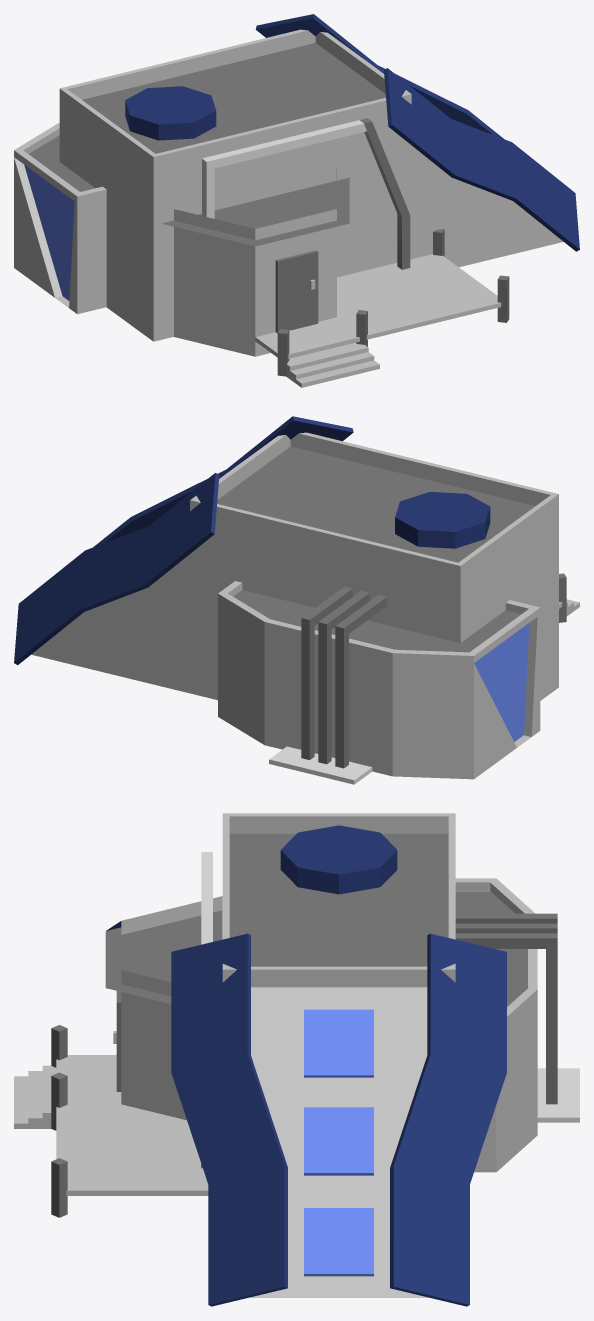
File: house.fbx
3 views of the same model, one above another, from view 1: azimuth 30°, elevation 25°; view 2: azimuth 150°, elevation 25°; view 3: azimuth 270°, elevation 25° (orthographic). The views are drawn at different scales.
Visible parts, largest first — view 1: Main_House, Front_Cylinder, roof_1, side_block, Terasse, Cylinder, door, pipe_2, stair, pipe_1, fence, fence_pfahl; view 2: Main_House, side_block, roof_1, Cylinder, pipe_5, pipe_6, pipe_7, bottom; view 3: Main_House, roof_1, Terasse, Front_Cylinder, side_block, Cylinder, window_2, window_1, window, pipe_7, stair, bottom (+5 smaller).
Boxes of the visible parts, bbox=[...] form: Main_House: bbox=[59, 29, 563, 341]; Front_Cylinder: bbox=[162, 169, 349, 356]; roof_1: bbox=[255, 14, 579, 251]; side_block: bbox=[14, 123, 106, 314]; Terasse: bbox=[255, 254, 501, 358]; Cylinder: bbox=[125, 86, 216, 140]; door: bbox=[275, 250, 318, 333]; pipe_2: bbox=[202, 120, 366, 218]; stair: bbox=[286, 342, 379, 387]; pipe_1: bbox=[359, 118, 410, 269]; fence: bbox=[277, 229, 444, 376]; fence_pfahl: bbox=[497, 275, 509, 322]; Main_House: bbox=[31, 432, 558, 700]; side_block: bbox=[218, 581, 540, 779]; roof_1: bbox=[14, 416, 353, 664]; Cylinder: bbox=[395, 491, 490, 548]; pipe_5: bbox=[335, 595, 386, 768]; pipe_6: bbox=[318, 590, 369, 764]; pipe_7: bbox=[301, 586, 352, 759]; bottom: bbox=[269, 746, 372, 784]; Main_House: bbox=[222, 813, 455, 1297]; roof_1: bbox=[171, 933, 506, 1306]; Terasse: bbox=[56, 1055, 208, 1195]; Front_Cylinder: bbox=[105, 896, 222, 1120]; side_block: bbox=[455, 878, 537, 1172]; Cylinder: bbox=[280, 825, 397, 894]; window_2: bbox=[304, 1009, 373, 1077]; window_1: bbox=[304, 1107, 373, 1175]; window: bbox=[304, 1208, 373, 1276]; pipe_7: bbox=[455, 933, 557, 1104]; stair: bbox=[14, 1065, 56, 1128]; bottom: bbox=[537, 1068, 579, 1122].
Size of the model in its own units: 585 by 253 by 485.
